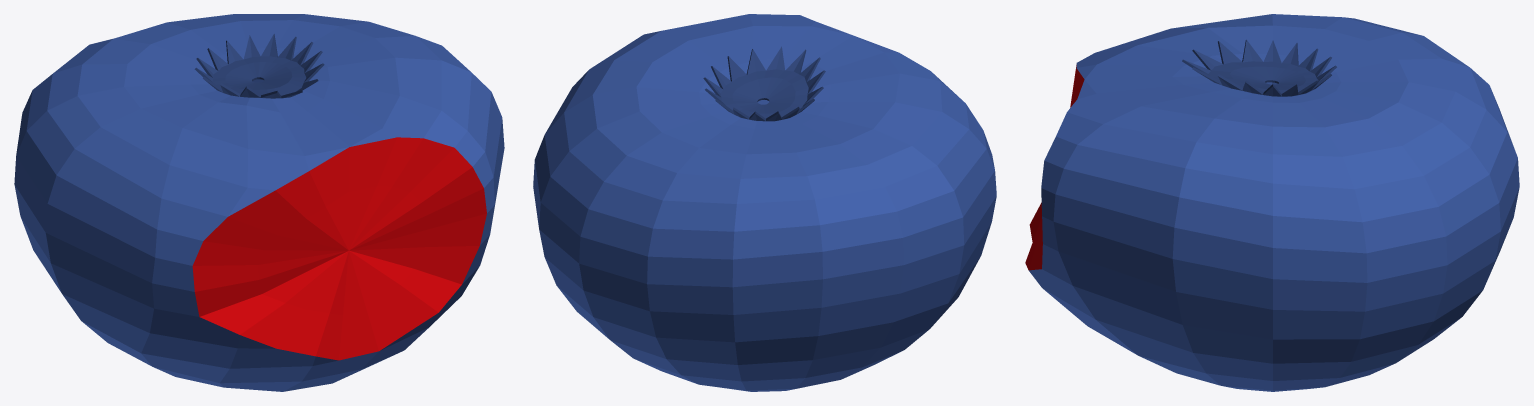
File: Bad_4.fbx
The picture shows the model from 3 angles, left to right: view 1: azimuth 30°, elevation 25°; view 2: azimuth 150°, elevation 25°; view 3: azimuth 270°, elevation 25°; orthographic projection. The views are drawn at different scales.
Visible parts, largest first — view 1: BerryBad.004; view 2: BerryBad.004; view 3: BerryBad.004.
Part boxes in pixels (x1,y1,x2,y2): BerryBad.004: (14,14,504,391); BerryBad.004: (533,14,996,391); BerryBad.004: (1025,14,1519,391).
Size of the model in its own units: 209 by 146 by 210.
